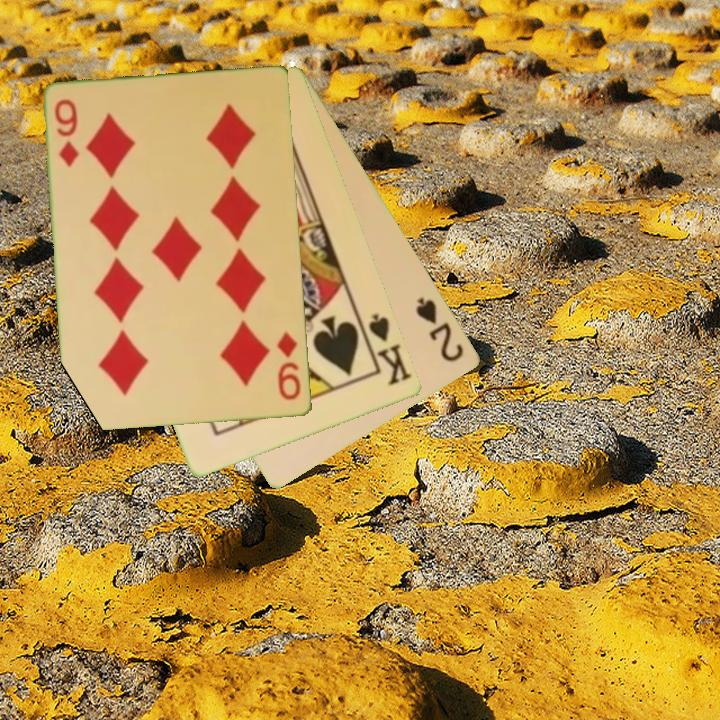2s: (412, 293, 468, 365)
9d: (51, 96, 83, 170), (274, 329, 305, 403)
Ks: (365, 310, 415, 389)
